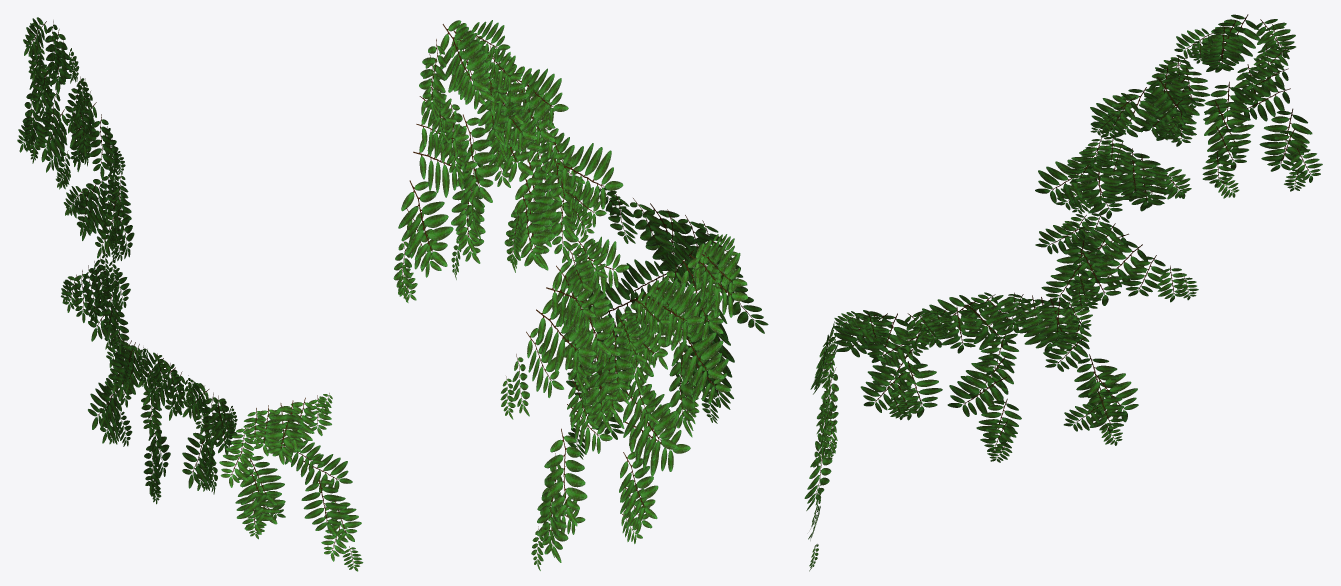
File: sm_vines_vault_1.fbx
The picture shows the model from 3 angles, left to right: view 1: azimuth 30°, elevation 25°; view 2: azimuth 150°, elevation 25°; view 3: azimuth 270°, elevation 25°; orthographic projection. The views are drawn at different scales.
Parts seen in each view (by area): view 1: sm_vines_vault_1; view 2: sm_vines_vault_1; view 3: sm_vines_vault_1.
Part boxes in pixels (x1,y1,x2,y2): sm_vines_vault_1: [17, 17, 363, 571]; sm_vines_vault_1: [393, 20, 768, 570]; sm_vines_vault_1: [804, 14, 1322, 571].
Size of the model in its own units: 428 by 1242 by 1190.
